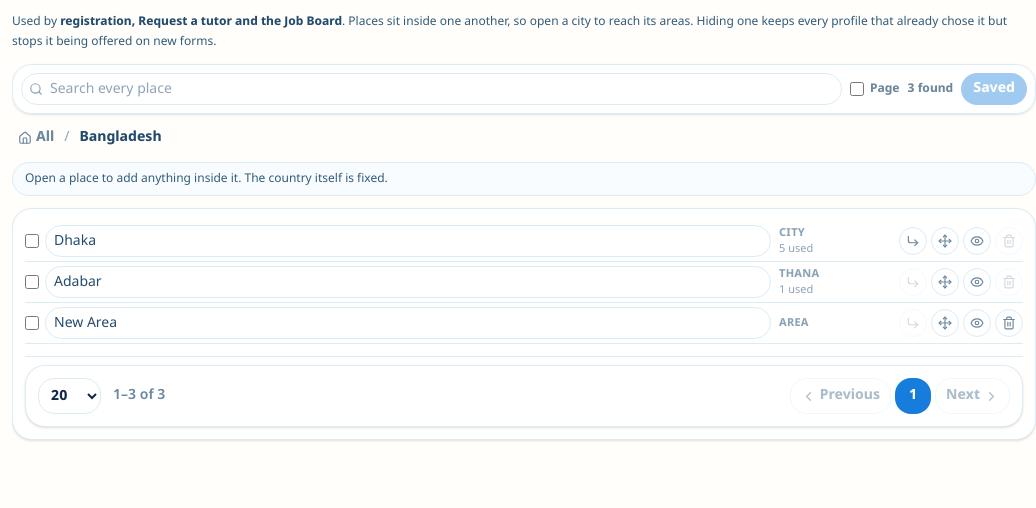
Test case: location catalog manager › surfaces a rejected save instead of pretending it worked
This screenshot has width=1036, height=508.
Replace the text in the 3rd field named "New Area" with "Adabar": point(408, 323) [45, 307, 771, 339]
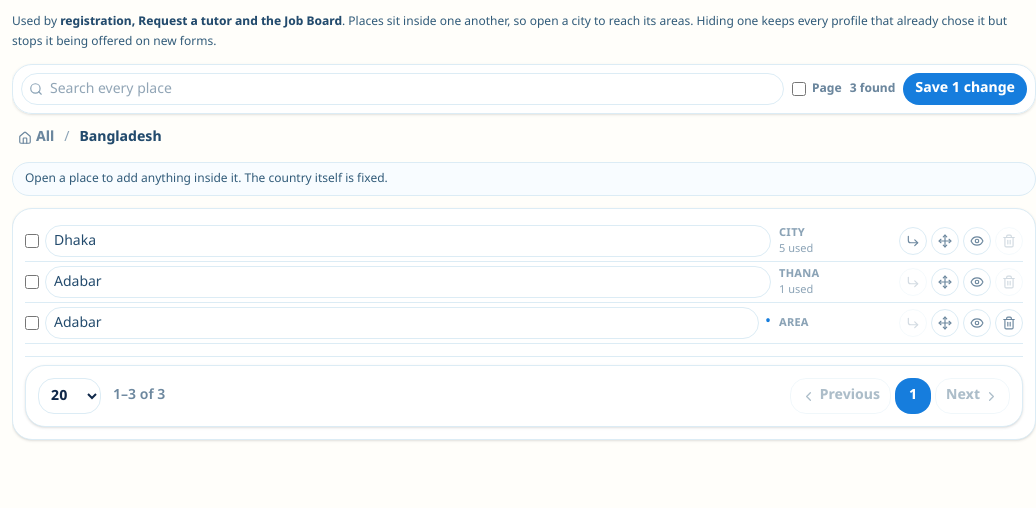
Click the button "Save 1 change": point(965, 89) [903, 73, 1027, 105]
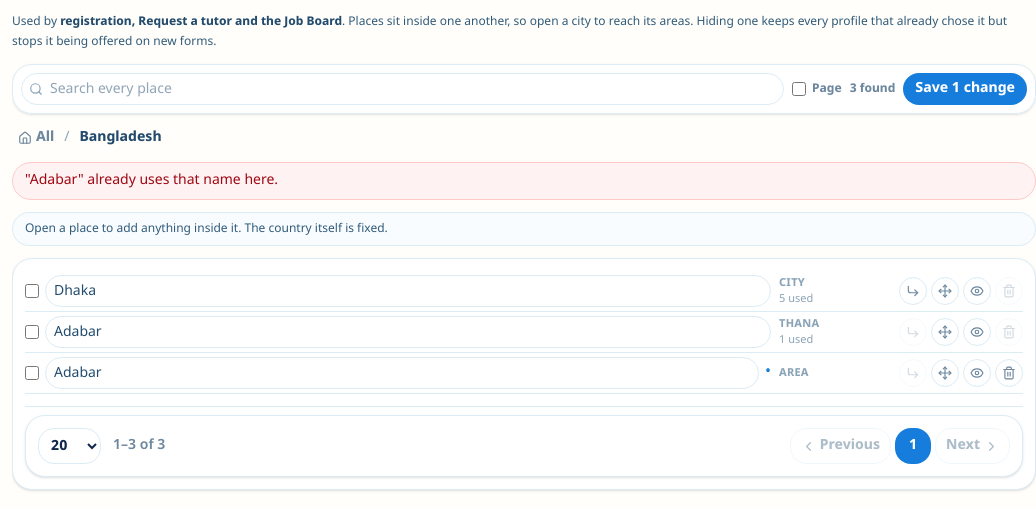
Result: the message shows "already uses that name" at [25, 171, 278, 190]
